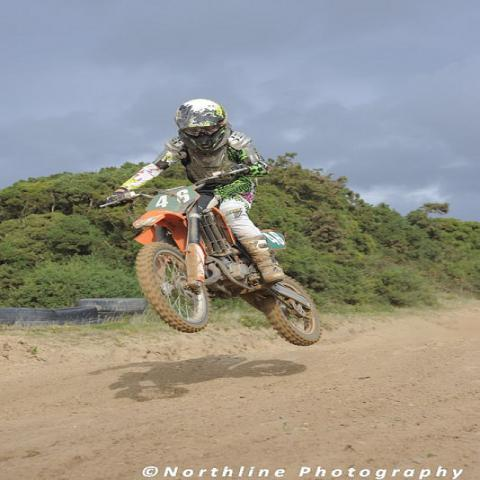motorcycle: (95, 170, 321, 342)
